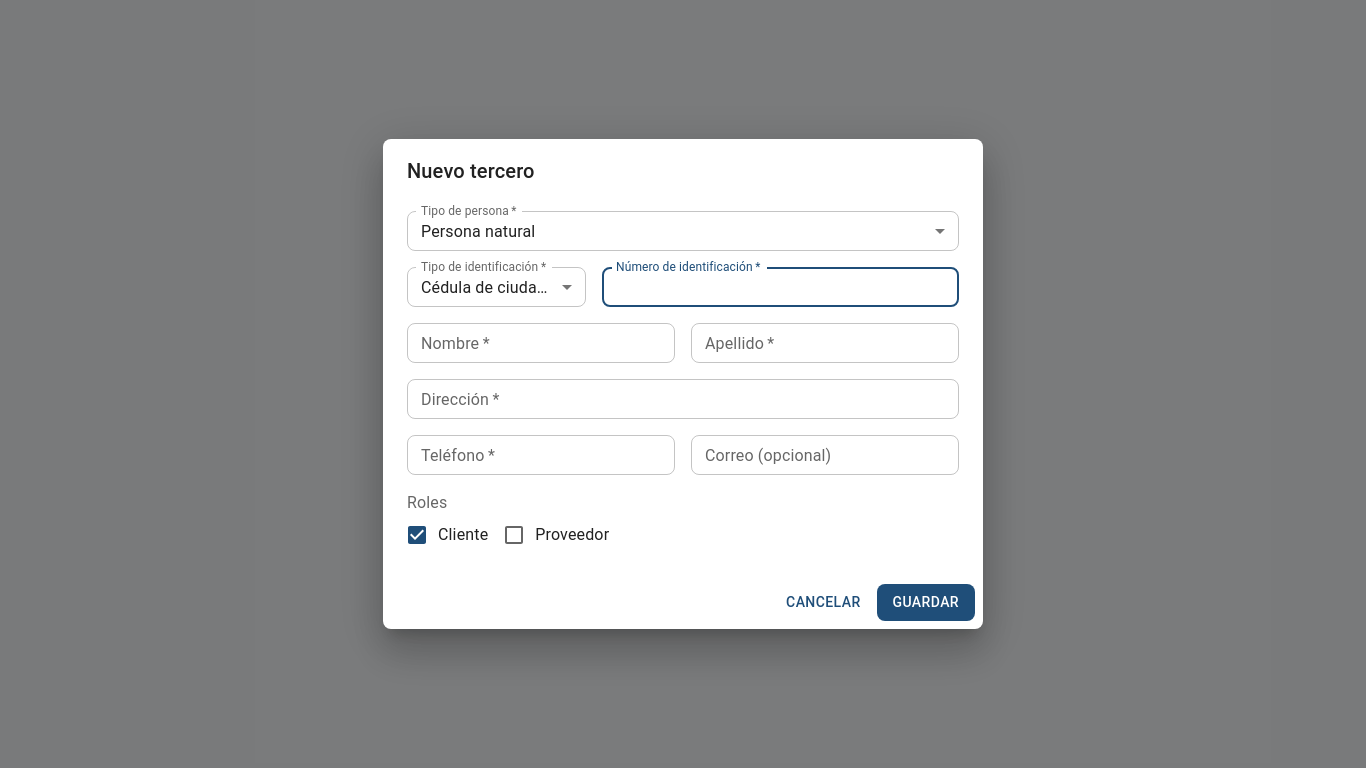
Scenario: TerceroFormDialog › [CA-RNF-INT-002-1] enviar vacío muestra la causa en cada campo obligatorio
This screenshot has width=1366, height=768.
Click the checkbox with test id "tercero-campo-es-cliente" at (447, 535), box [405,523,488,547]
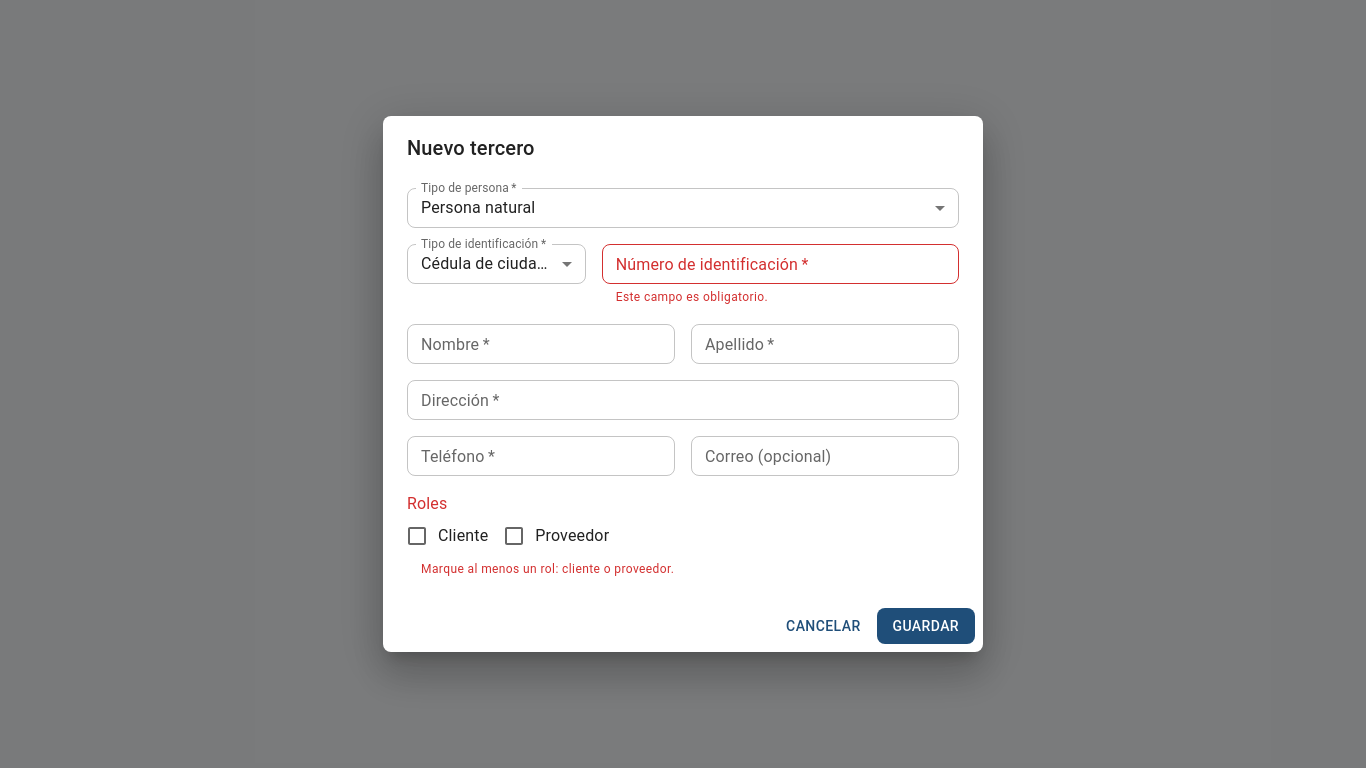
Click the field with test id "tercero-campo-telefono" at (541, 456), box [407,436,675,476]
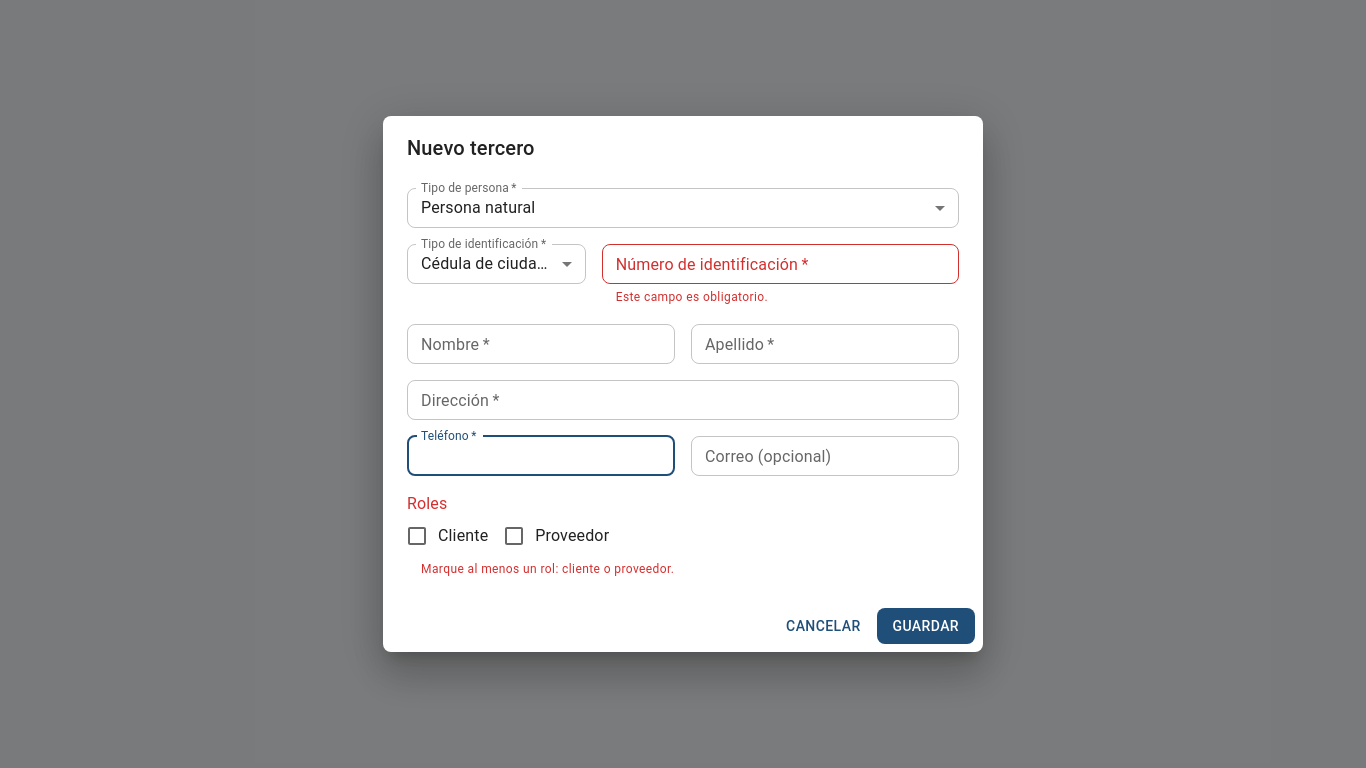
Type keys "123"
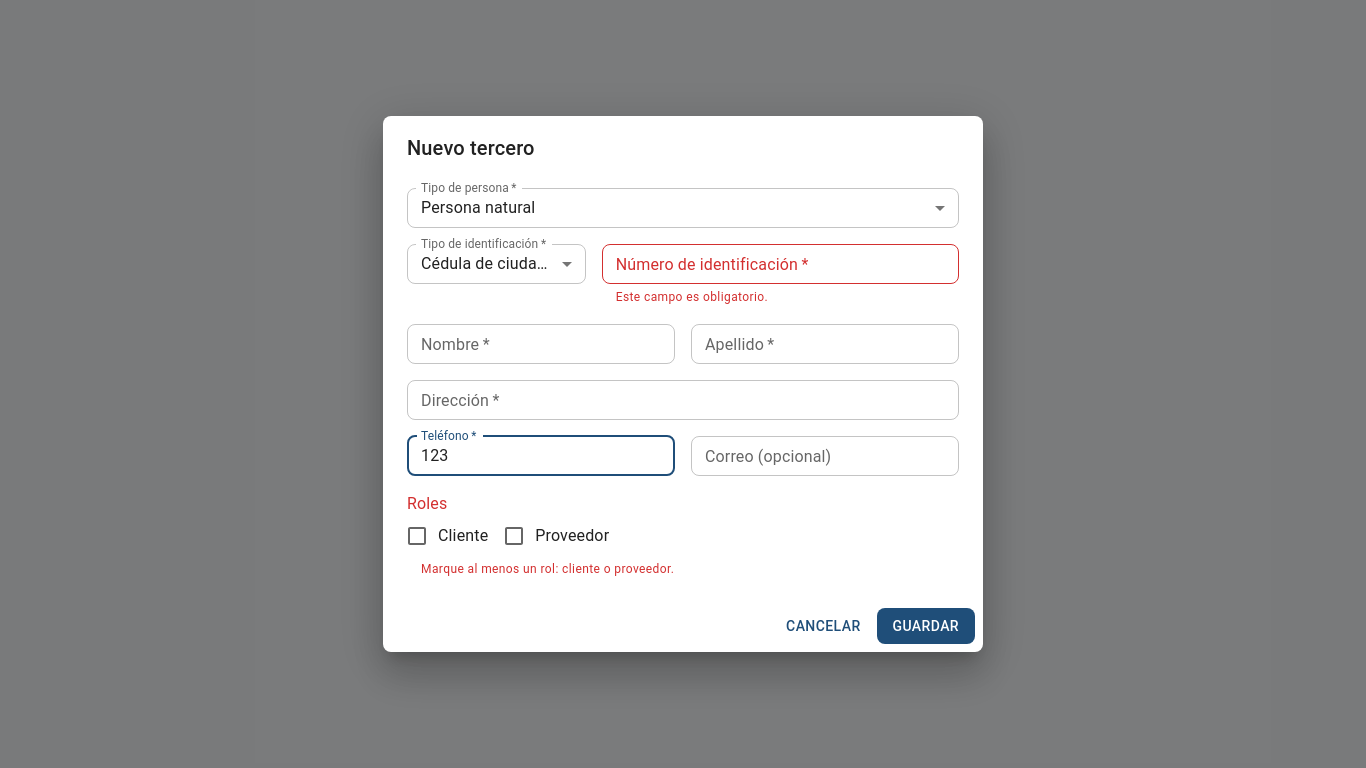
Click the button with test id "tercero-guardar" at (926, 626), box [876,608,975,644]
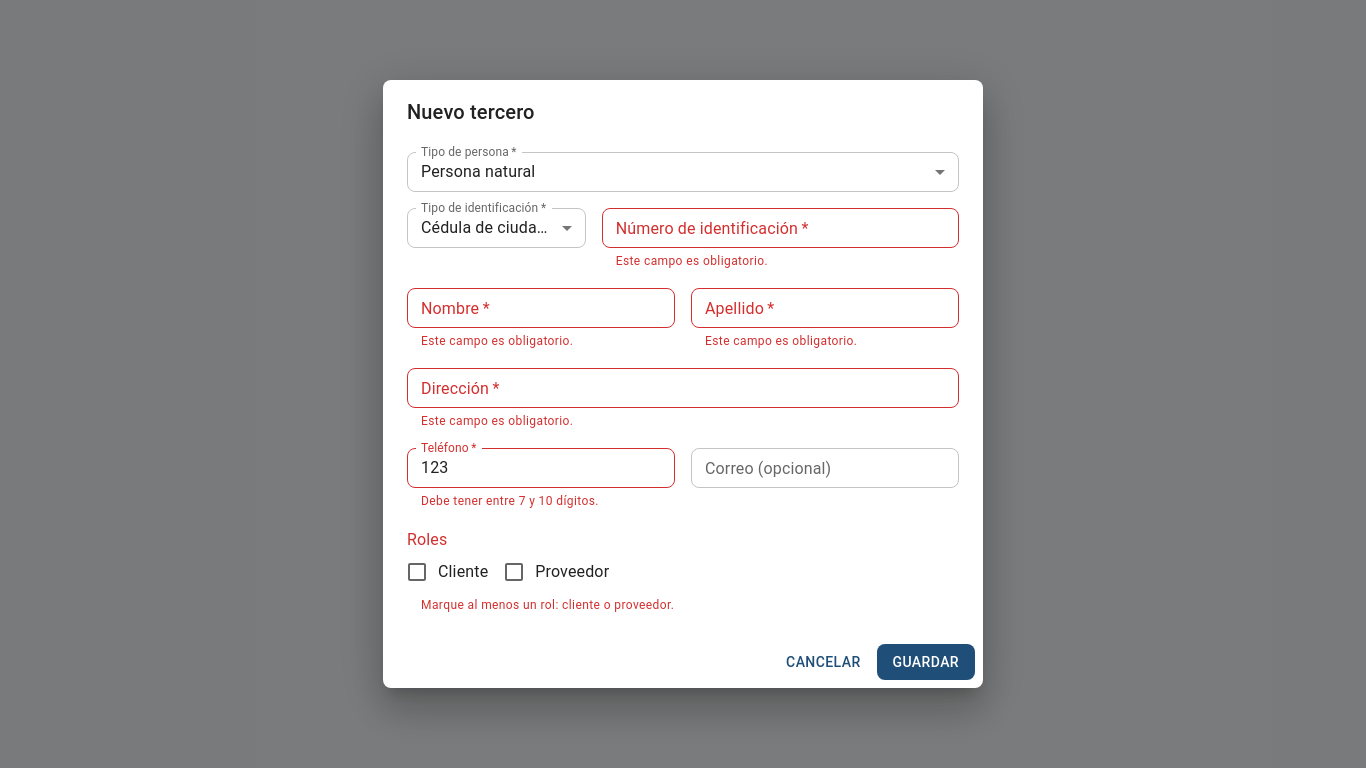
Result: the text with test id "tercero-error-numero" reads "Este campo es obligatorio." at [616,254,768,268]
Result: the text with test id "tercero-error-nombre" reads "Este campo es obligatorio." at [421,334,573,348]
Result: the text with test id "tercero-error-telefono" reads "Debe tener entre 7 y 10 dígitos." at [421,494,599,508]
